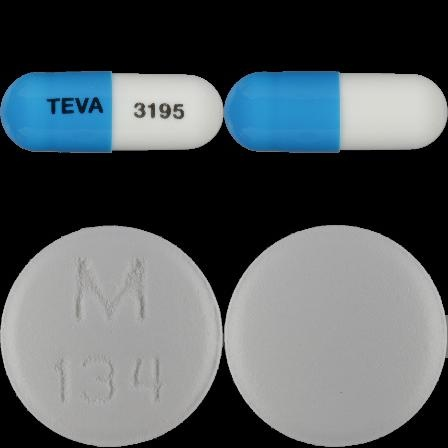16590-137: (0, 0, 224, 224)
